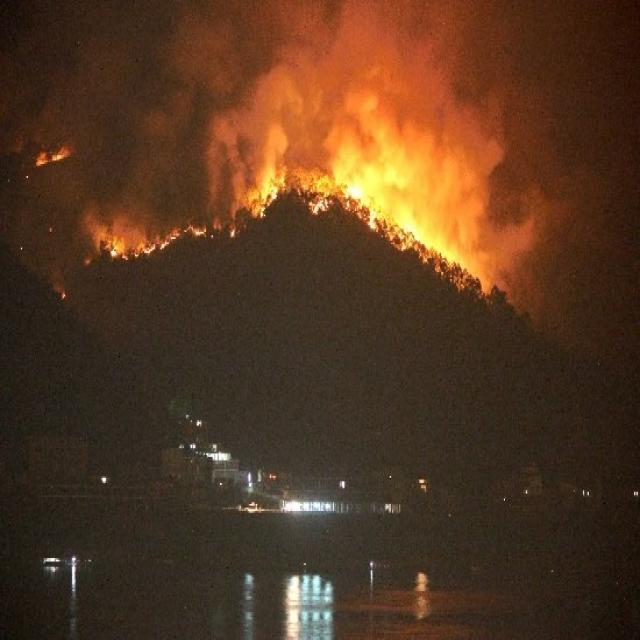Fire: (343, 185, 468, 292), (108, 222, 207, 264), (32, 141, 70, 169), (257, 185, 278, 218), (308, 193, 330, 214), (229, 227, 236, 237)
Smoke: (85, 2, 567, 300)
